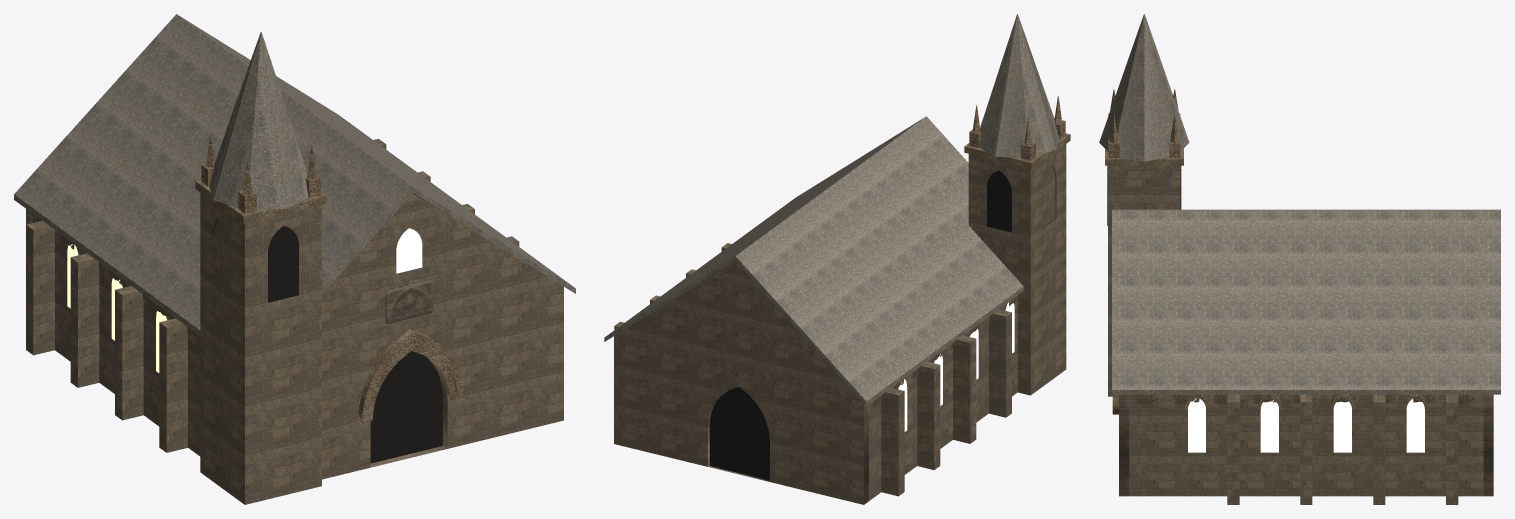
File: redwood-chapel.glb
3 views of the same model, side by side, from view 1: azimuth 30°, elevation 25°; view 2: azimuth 150°, elevation 25°; view 3: azimuth 270°, elevation 25° (orthographic). The views are drawn at different scales.
Parts seen in each view (by area): view 1: stjames_wall, stjames_roof, stjames_shadow, stjames_trim, stjames_glass, merged_stjames_relief_gothic-tympanum; view 2: stjames_wall, stjames_roof, stjames_shadow, stjames_trim, stjames_glass; view 3: stjames_roof, stjames_wall, stjames_glass, stjames_trim, merged_stjames_relief_stjames-band.
Part boxes in pixels (box(x1,y1,x2,y2)): stjames_wall: box(26, 138, 563, 504); stjames_roof: box(14, 14, 575, 335); stjames_shadow: box(213, 220, 442, 463); stjames_trim: box(195, 133, 464, 424); stjames_glass: box(67, 228, 422, 372); merged_stjames_relief_gothic-tympanum: box(385, 279, 432, 324); stjames_wall: box(614, 144, 1066, 504); stjames_roof: box(604, 14, 1059, 405); stjames_shadow: box(709, 166, 1056, 480); stjames_trim: box(964, 96, 1070, 168); stjames_glass: box(898, 302, 1014, 431); stjames_roof: box(1099, 14, 1500, 394); stjames_wall: box(1108, 165, 1493, 504); stjames_glass: box(1188, 398, 1424, 452); stjames_trim: box(1105, 89, 1427, 414); merged_stjames_relief_stjames-band: box(1135, 394, 1477, 403).
Bounding box in the file's own units: 16.68 × 20.02 × 19.83.
9 materials, 7 textured.
